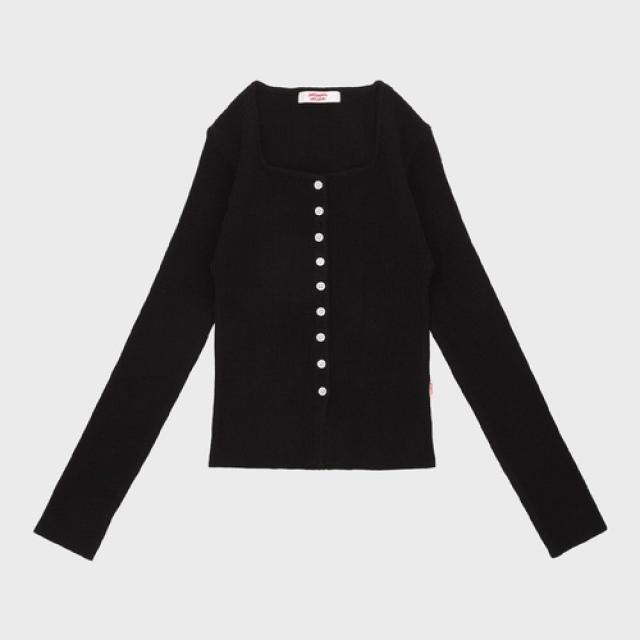dress: (36, 78, 606, 569)
